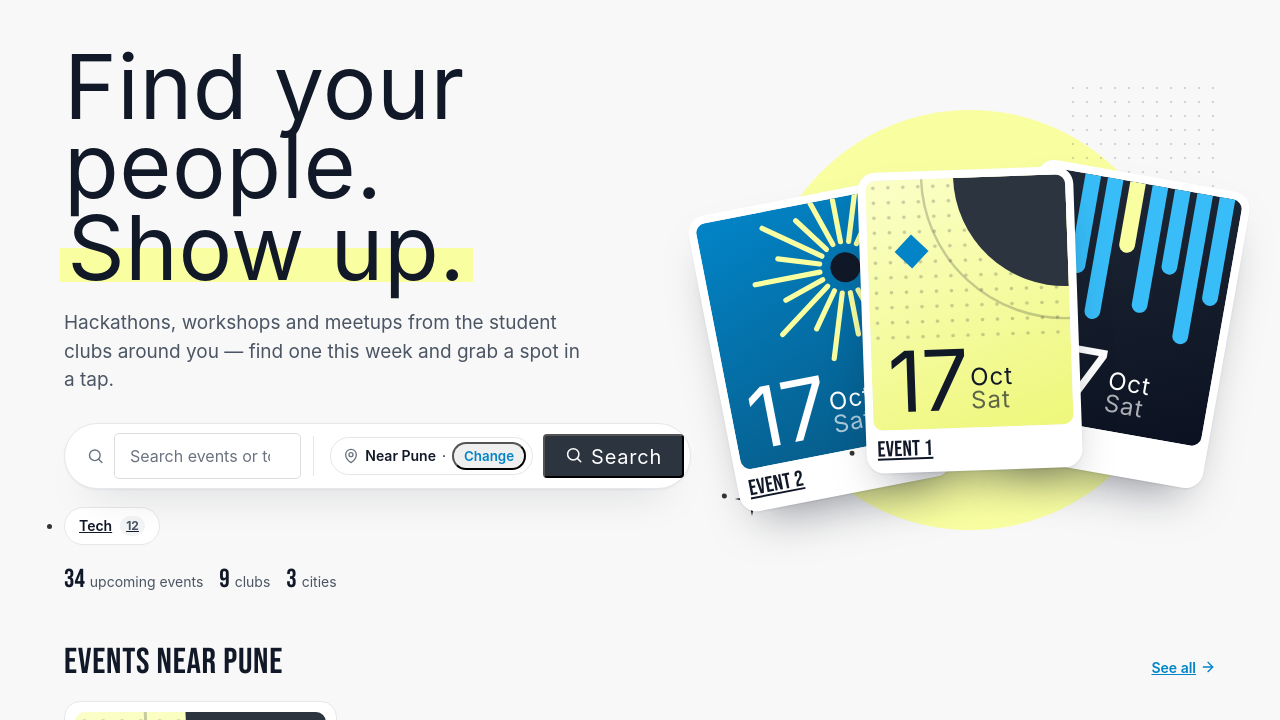
Test case: the home page › keeps the guess when the browser won't share a location
Click the button with aria-label "Change location (now near pune)".
click(489, 456)  # box [452,442,526,470]
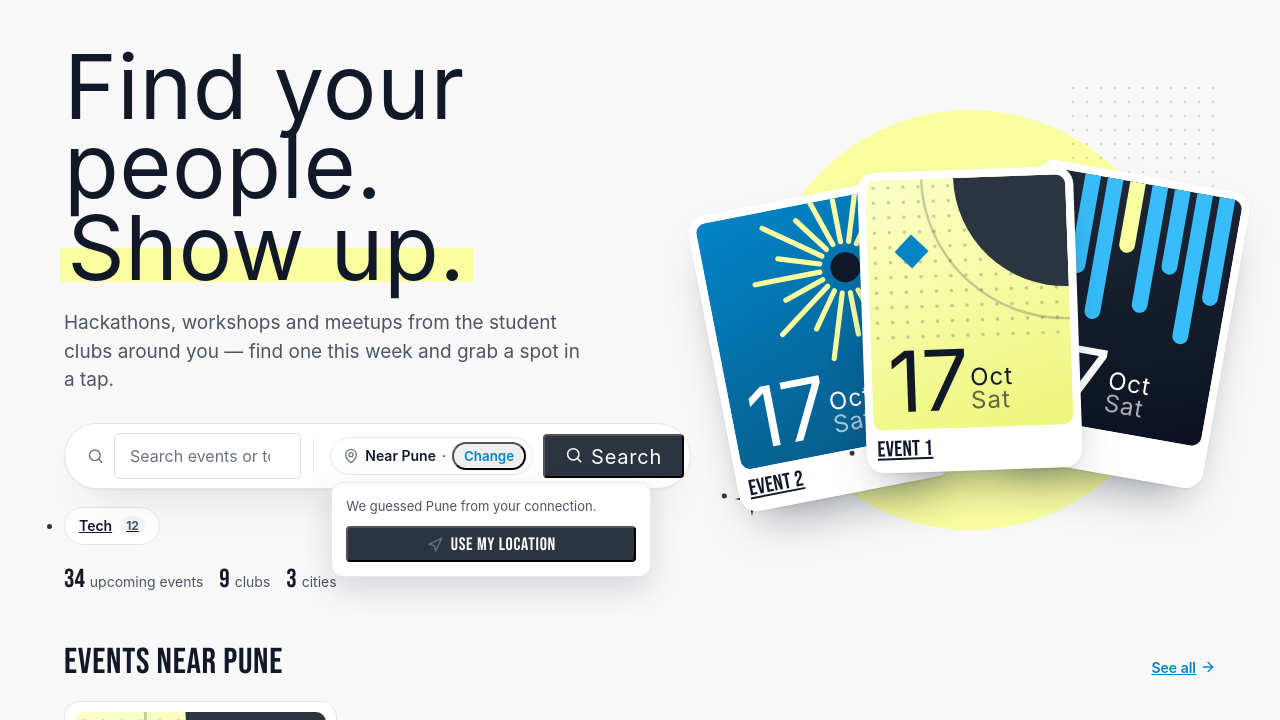
Check: the text "We guessed Pune from your connection." is shown, box [346,497,636,516]
Click the button "Use my location".
click(491, 544)  # box [346,526,636,562]
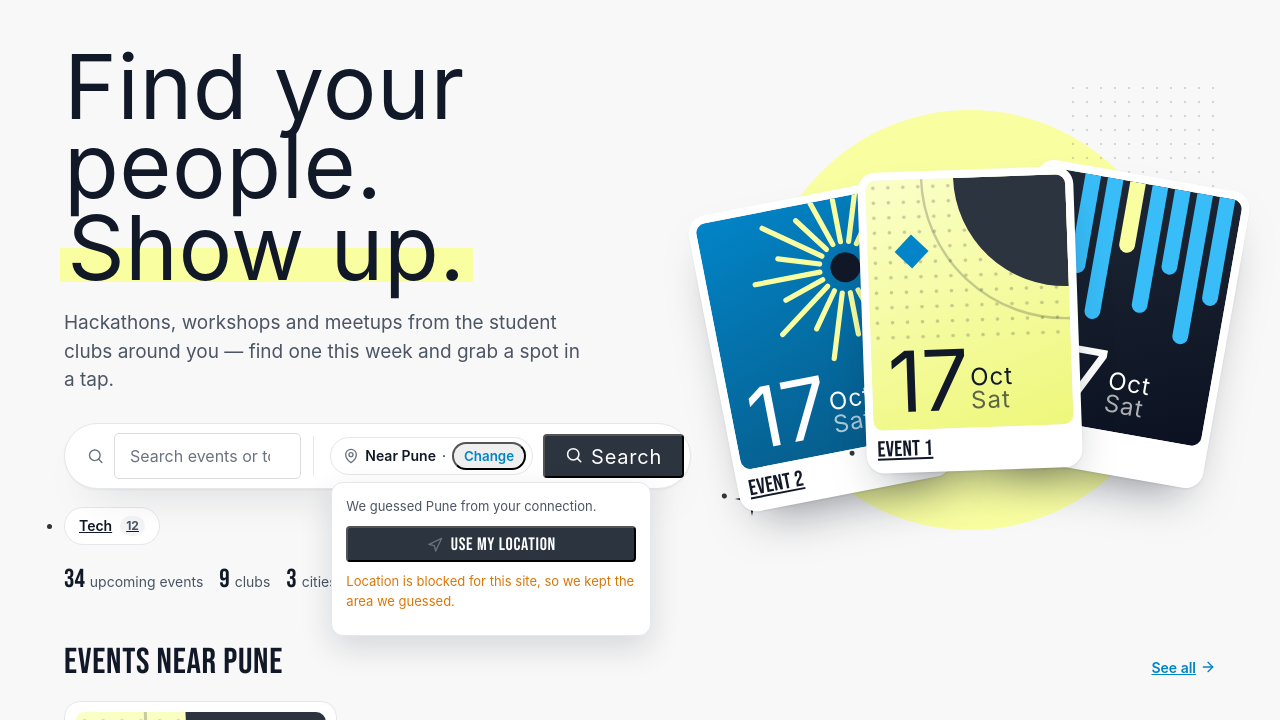
Check: the text "Location is blocked for this site, so we kept the area we guessed." is shown, box [346,572,636,611]
